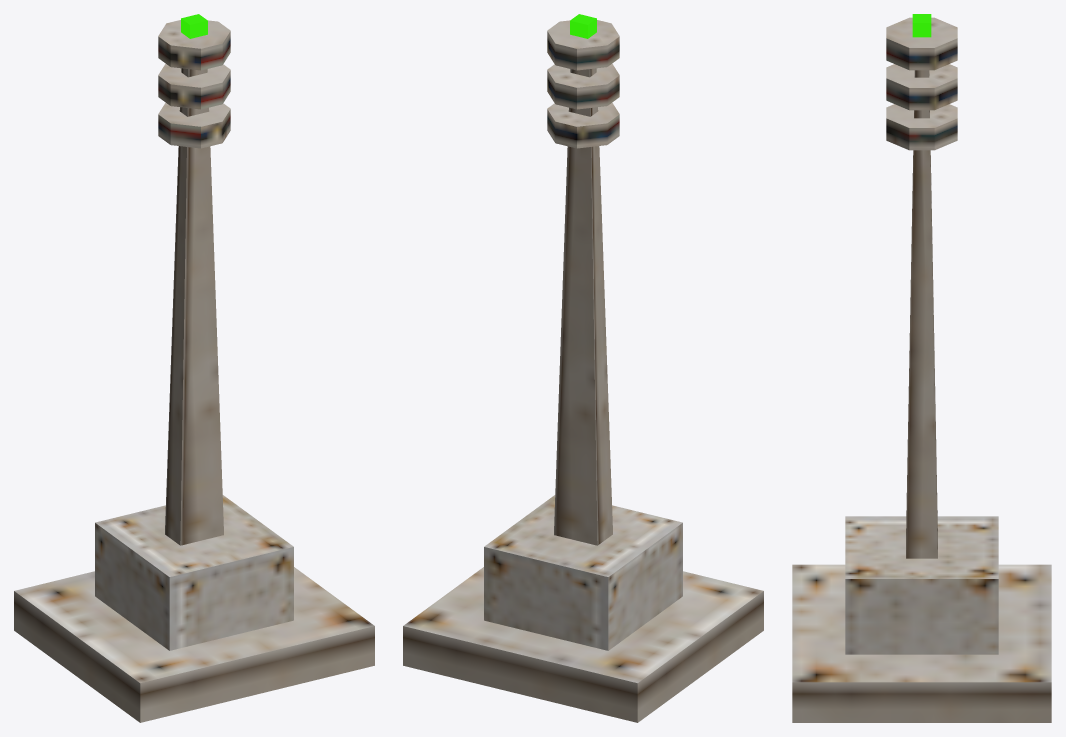
The model's file is ElectricityBox_Antenna_Model.fbx.
The picture shows the model from 3 angles, left to right: view 1: azimuth 30°, elevation 25°; view 2: azimuth 150°, elevation 25°; view 3: azimuth 270°, elevation 25°; orthographic projection. The views are drawn at different scales.
Parts seen in each view (by area): view 1: ElectricityBox_Antenna; view 2: ElectricityBox_Antenna; view 3: ElectricityBox_Antenna.
Boxes of the visible parts, x1,y1,x2,y2 form: ElectricityBox_Antenna: [14, 14, 374, 722]; ElectricityBox_Antenna: [403, 14, 763, 722]; ElectricityBox_Antenna: [792, 14, 1051, 722].
Bounding box in the file's own units: 30.42 × 77.87 × 28.33.
